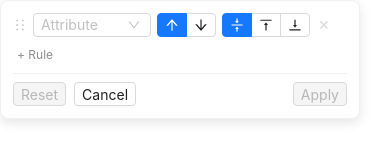
Test case: SortPanel › excludes long_text attributes from the sort field dropdown options
# Open the field selector dropdown
Press the mouse on the element showing "Attribute" at (92, 25), box [33,13,151,37]
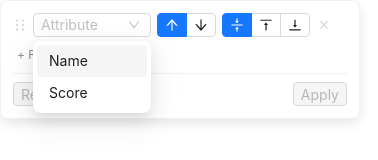
Result: the element titled "Name" is shown at [37,45,147,77]
Result: the element titled "Score" is shown at [49,84,88,101]
